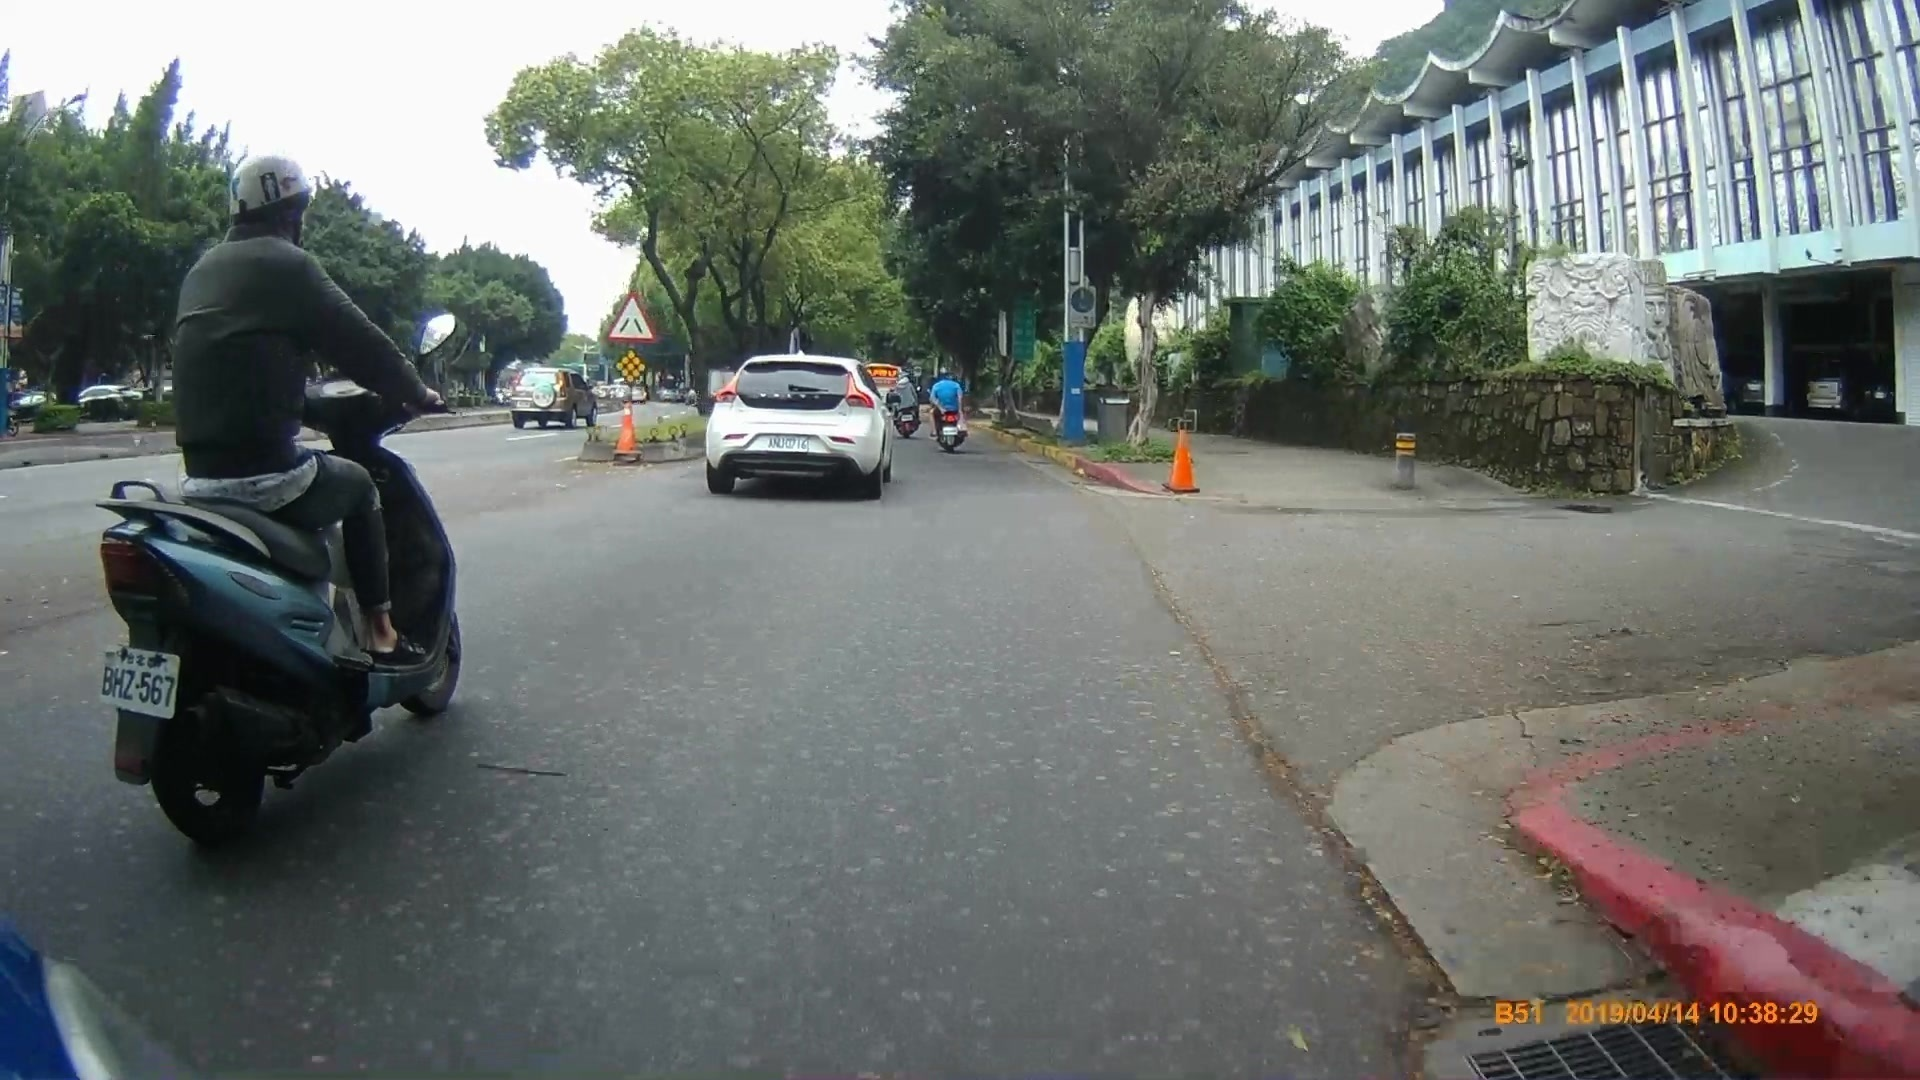License_plate: (99, 646, 180, 717), (764, 435, 810, 454)
